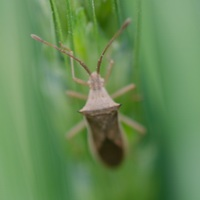insect: (31, 18, 130, 166)
